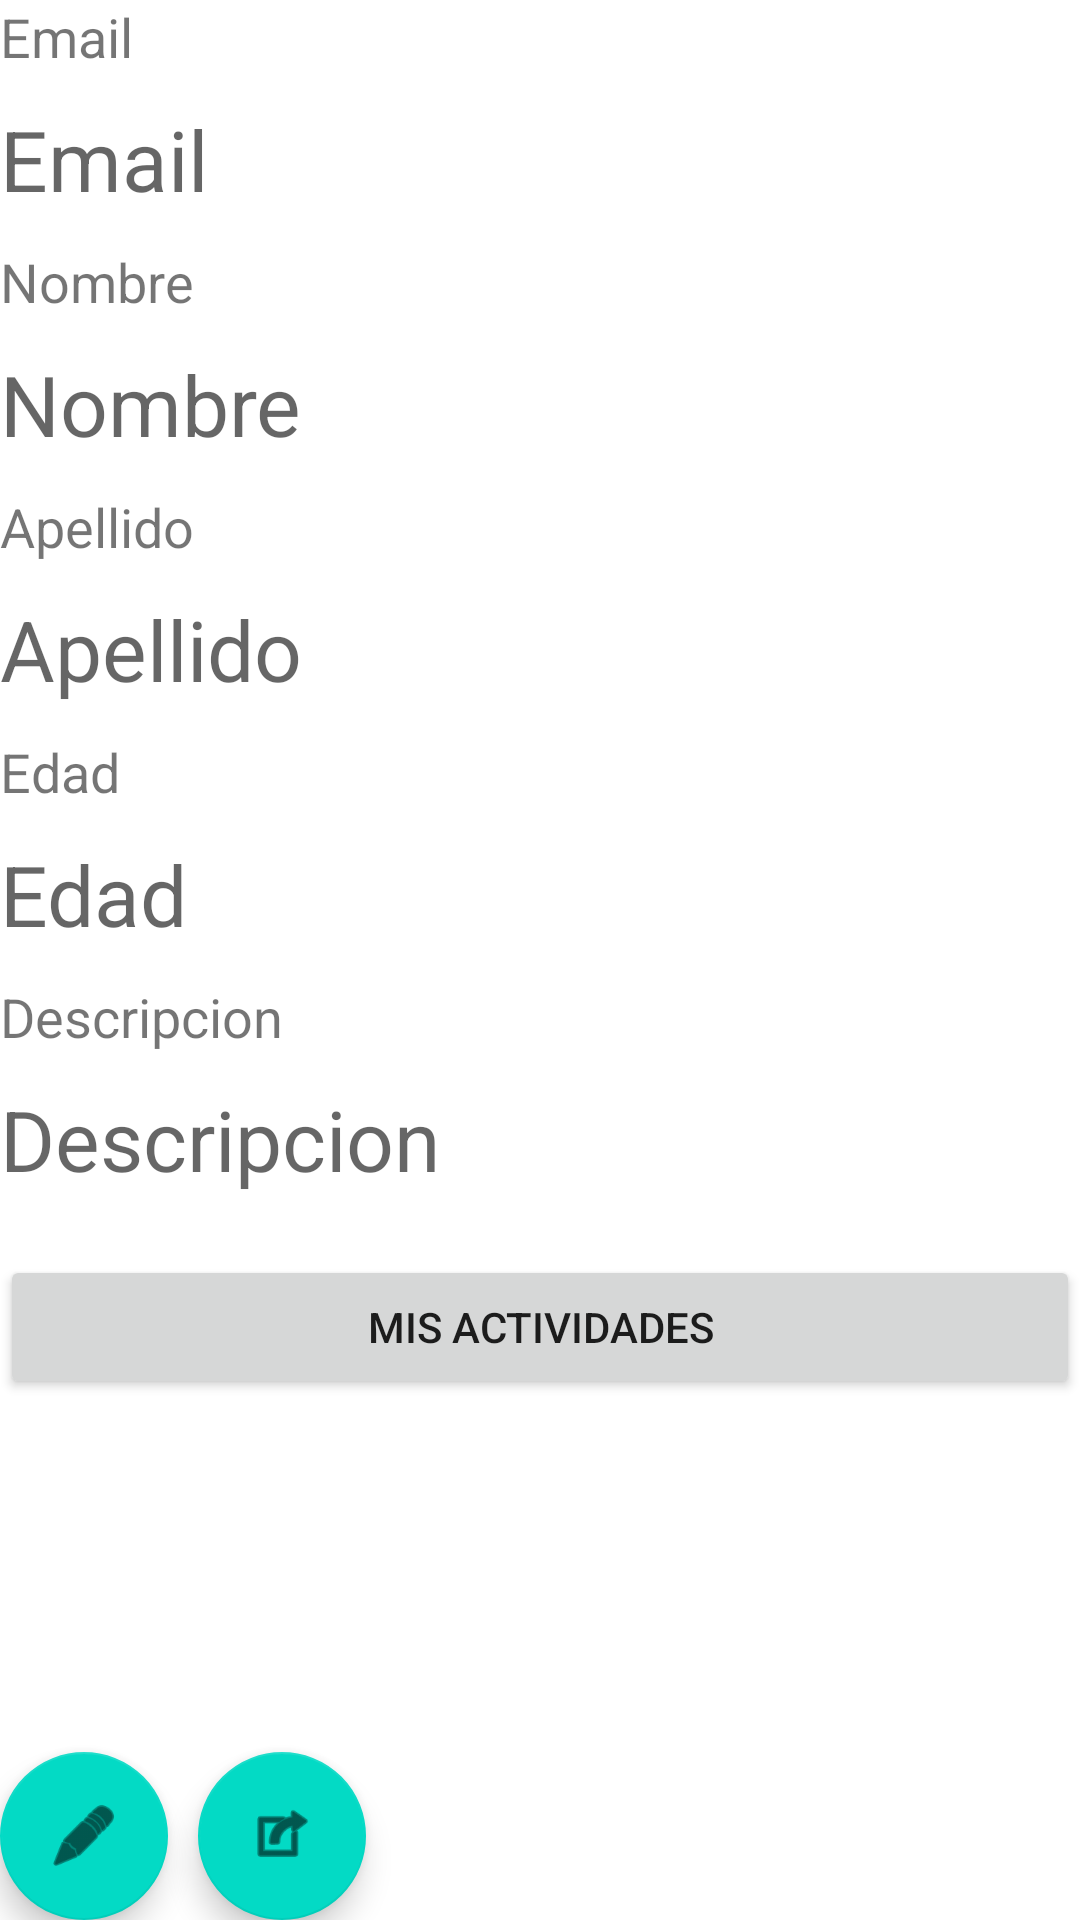

Where icons sit on this 1080x1920 app screen, as (x1, y1, x2, y2):
edit: (0, 1752, 168, 1920)
set as: (198, 1752, 366, 1920)
